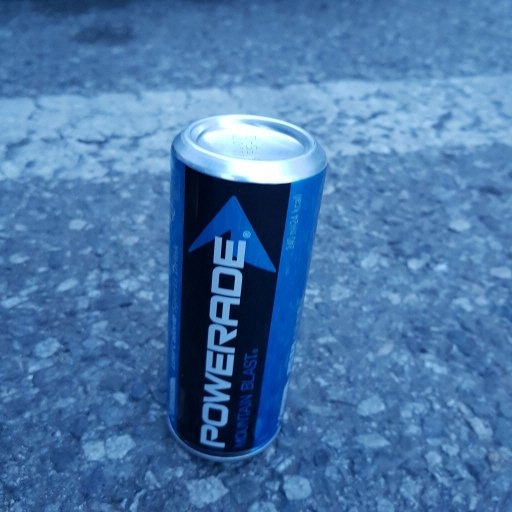Metal_0: (159, 111, 328, 464)
